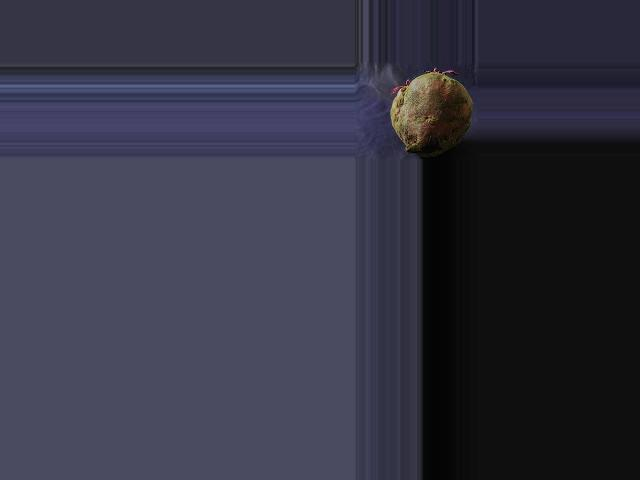beet: (390, 68, 472, 156)
